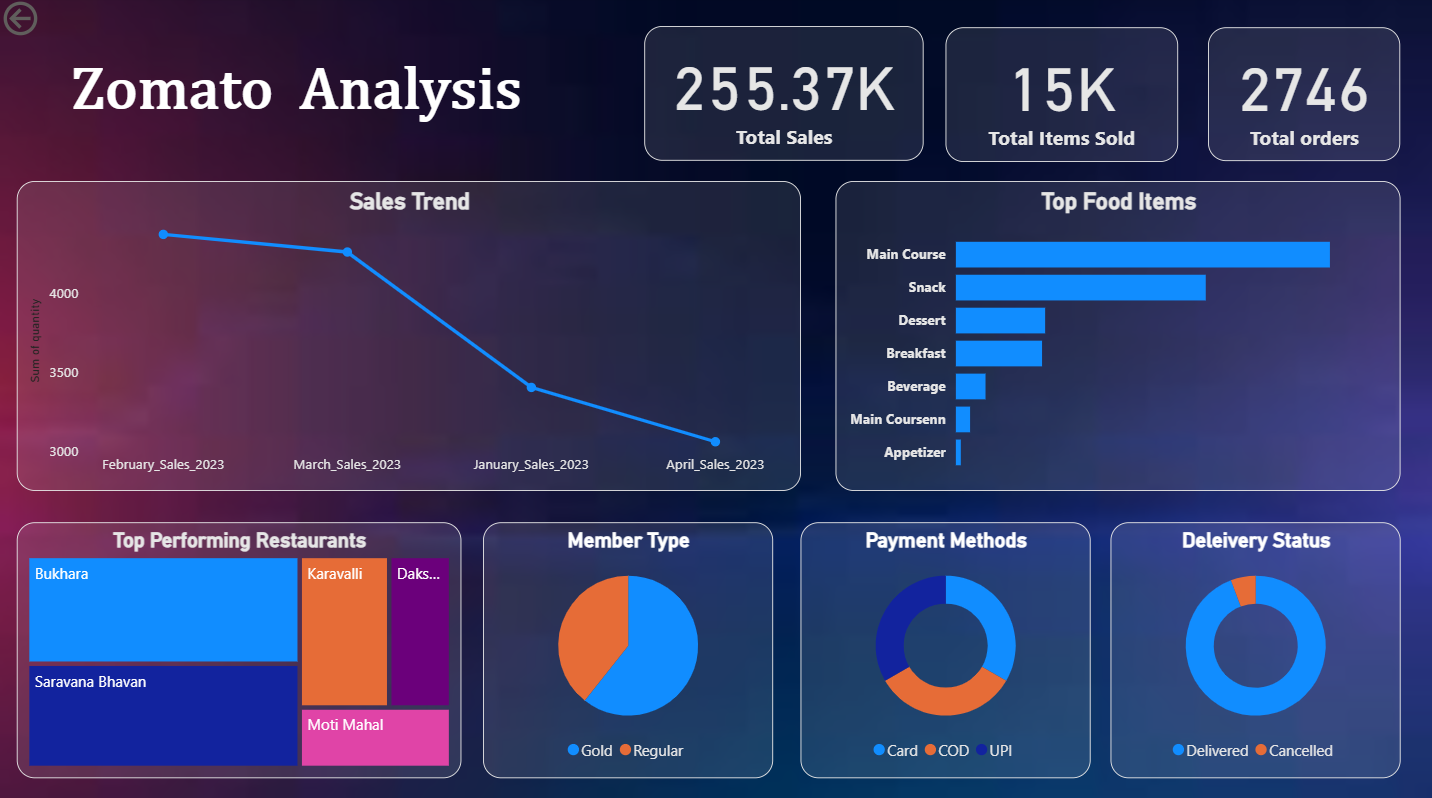

This screenshot's page, from the dashboard's own definition file:
{"tool":"powerbi","page":{"name":"Page 1","canvas":[1280,720],"ordinal":0},"visuals":[{"type":"clusteredBarChart","title":"Top Food Items","fields":{"Category":["Food_Details.Food_Type"],"Y":["CountNonNull(Orders Data.Fooditem)"]},"box":[745.6,165.3,503.1,276.3],"z":0},{"type":"lineChart","title":"Sales Trend","fields":{"Category":["Orders Data.April_Sales_2023"],"Y":["Sum(Orders Data.quantity)"]},"box":[16.9,165.3,698.5,276.3],"z":1000},{"type":"donutChart","title":"Payment Methods","fields":{"Category":["Orders Data.payment_method"],"Y":["CountNonNull(Customer Details.customer_id)"]},"box":[715.1,468.6,258.1,227.9],"z":2000},{"type":"donutChart","title":"Deleivery Status","fields":{"Category":["Orders Data.deliver_status"],"Y":["CountNonNull(Orders Data.customer_id)"]},"box":[990.5,468.1,258.2,228],"z":3000},{"type":"pieChart","title":"Member Type","fields":{"Category":["Customer Details.member_Type"],"Y":["CountNonNull(Orders Data.customer_id)"]},"box":[431.4,468.6,258.1,227.9],"z":4000},{"type":"treemap","title":"Top Performing Restaurants","fields":{"Group":["Resturant_Details.Resturant_Name"],"Values":["Sum(Orders Data.quantity)"]},"box":[16.9,468.1,395.7,228],"z":5000},{"type":"card","fields":{"Values":["Customer Details.Total orders"]},"box":[1077.4,27.7,171.3,119.4],"z":6000},{"type":"card","fields":{"Values":["Customer Details.Total Items Sold"]},"box":[844.2,27.9,207,119.8],"z":8000},{"type":"actionButton","box":[0,0,100,40],"z":9000},{"type":"card","fields":{"Values":["Avg(Orders Data.order_id)"]},"box":[575.6,26.7,248.8,119.8],"z":10000},{"type":"textbox","box":[60.5,50,448.8,74.4],"z":11000}]}

Visuals, with their boxes in screenshot pixels (x1, y1, x2, y2), scaled from the page's 1280x720 canvas onto the 1432x798 screenshot:
"Top Food Items" clusteredBarChart: <bbox>834, 183, 1397, 489</bbox>
"Sales Trend" lineChart: <bbox>19, 183, 800, 489</bbox>
"Payment Methods" donutChart: <bbox>800, 519, 1089, 772</bbox>
"Deleivery Status" donutChart: <bbox>1108, 519, 1397, 772</bbox>
"Member Type" pieChart: <bbox>483, 519, 771, 772</bbox>
"Top Performing Restaurants" treemap: <bbox>19, 519, 462, 772</bbox>
card - Customer Details.Total orders: <bbox>1205, 31, 1397, 163</bbox>
card - Customer Details.Total Items Sold: <bbox>944, 31, 1176, 164</bbox>
actionButton: <bbox>0, 0, 112, 44</bbox>
card - Avg(Orders Data.order_id): <bbox>644, 30, 922, 162</bbox>
textbox: <bbox>68, 55, 570, 138</bbox>
